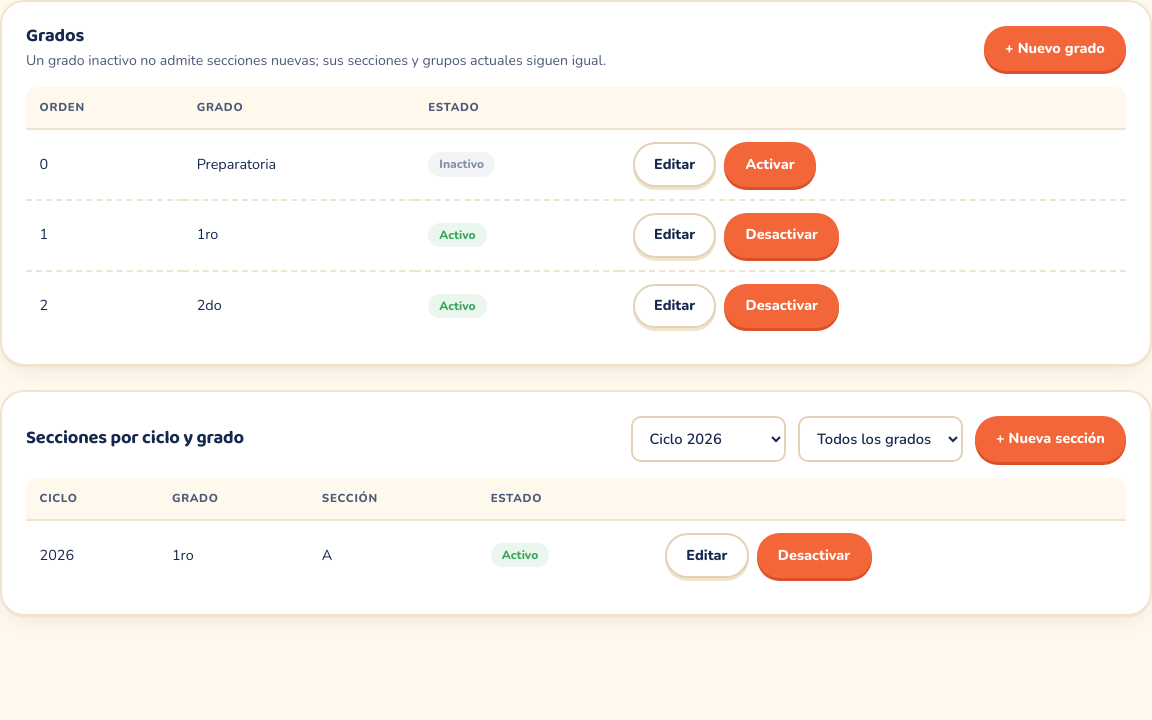
Scenario: SeccionesAdmin: grados y ciclo escolar › creates a grado with the next orden
Expected: the heading "Grados" is shown, [26, 21, 84, 51]
Click the button "+ Nuevo grado": (1055, 48) [984, 26, 1126, 71]
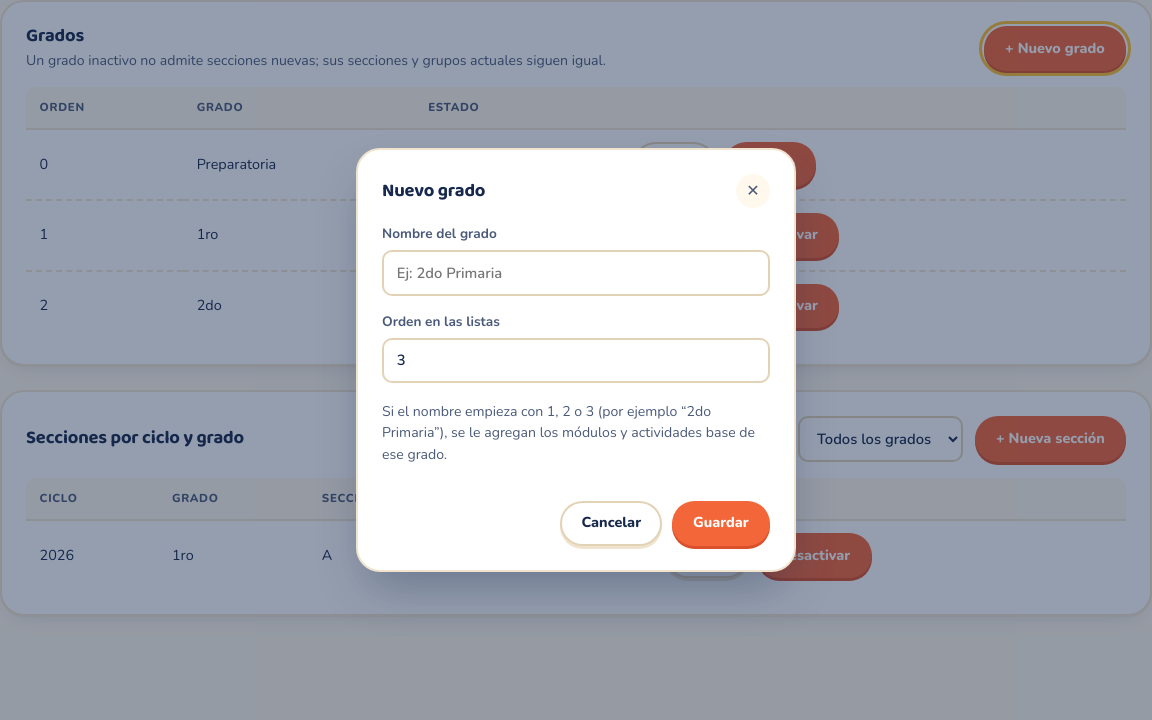
Expected: the number field labelled "Orden en las listas" holds "3", [382, 338, 770, 383]
In the field labelled "Nombre del grado": (576, 273) [382, 250, 770, 296], type "3ro"
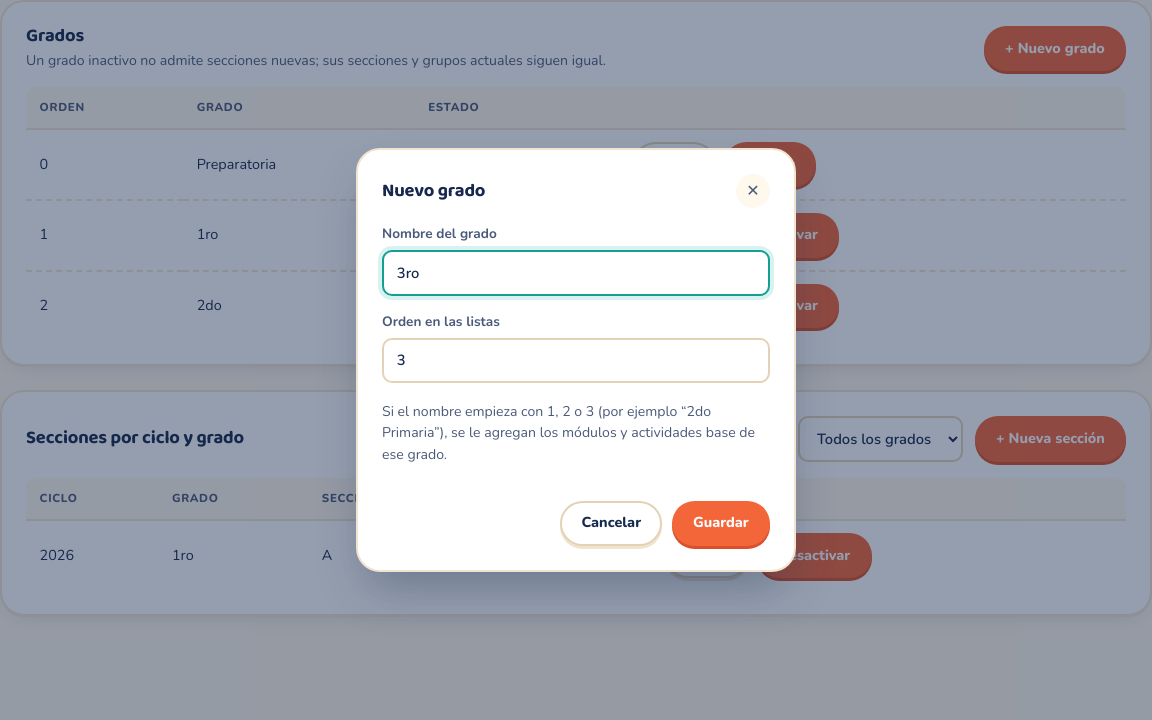
Click the button "Guardar": (721, 523) [672, 501, 770, 546]
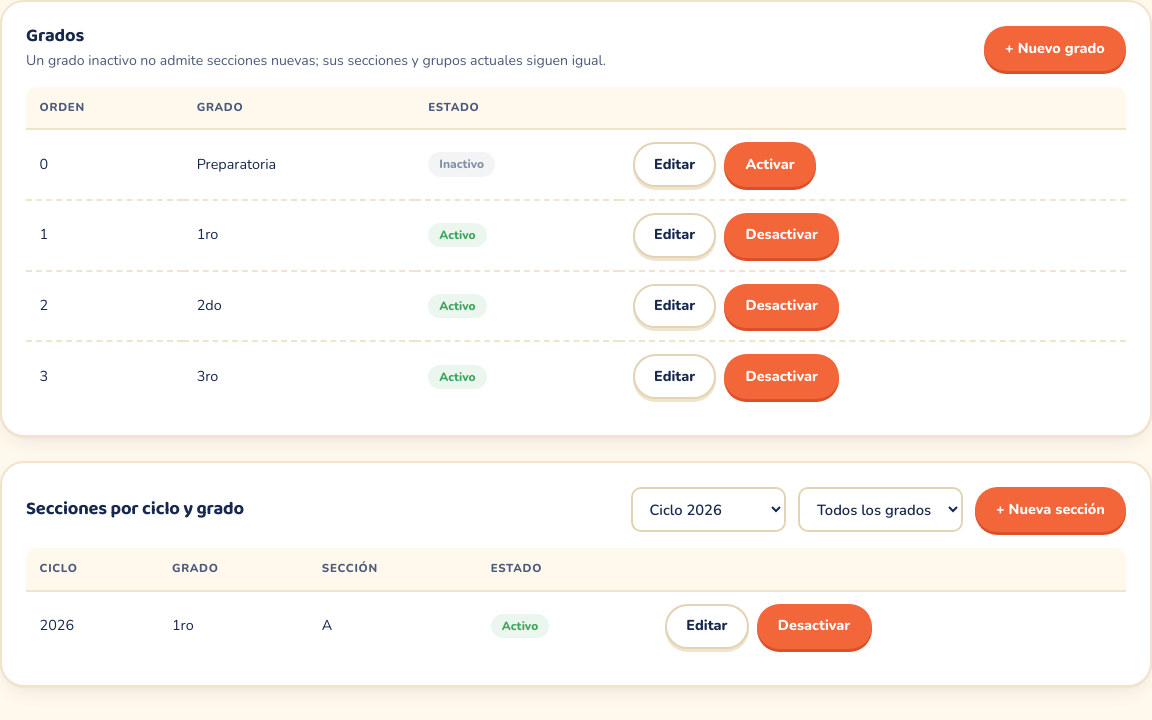
Expected: the text "3ro" is shown, [183, 342, 415, 411]
